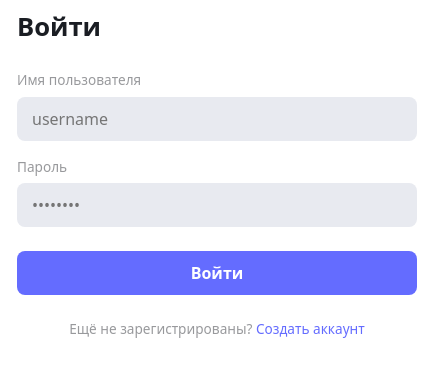
SignInPage › clears the error message when typing in the username field
Click the button "Войти".
click(217, 273)  # box top-left (17, 251), bottom-right (417, 295)
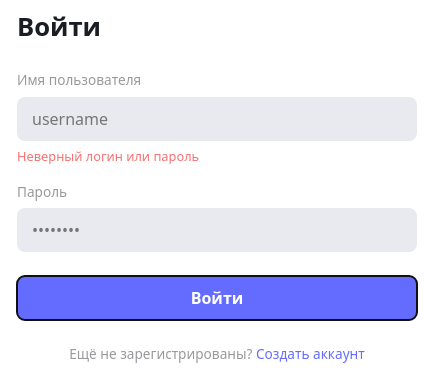
expect the text "Неверный логин или пароль" is shown: met, box top-left (17, 147), bottom-right (199, 165)
Type "a" into the field with placeholder "username".
click(217, 119); type("a")  # box top-left (17, 97), bottom-right (417, 141)
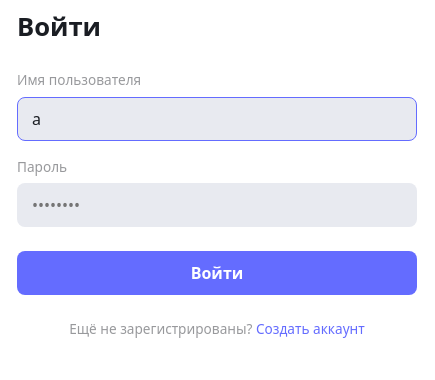
expect the text "Неверный логин или пароль" is gone: met
